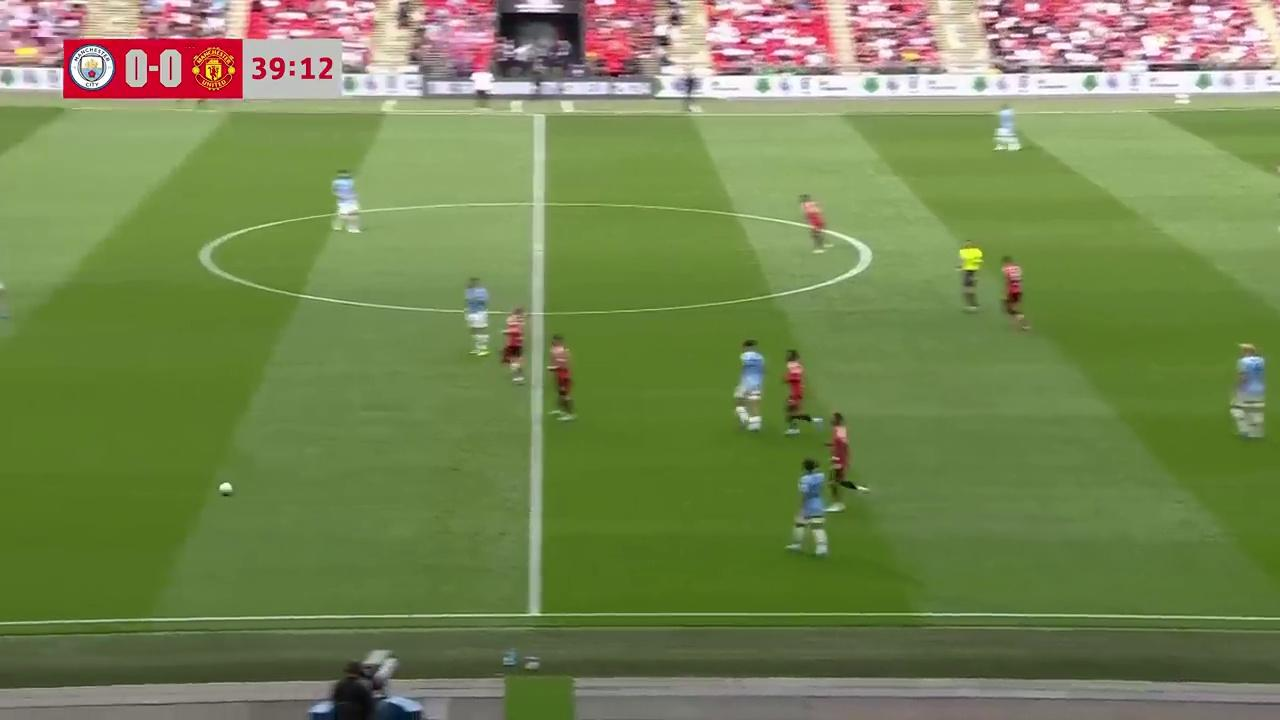ball: (216, 477, 235, 497)
player: (784, 457, 832, 557), (824, 410, 871, 508), (781, 349, 823, 436), (1229, 342, 1266, 438), (733, 339, 766, 431), (548, 334, 576, 419), (1000, 256, 1030, 331), (499, 305, 528, 382), (463, 277, 491, 355), (330, 171, 360, 233), (798, 195, 828, 252), (994, 105, 1020, 151), (0, 265, 10, 333)
referee: (956, 239, 983, 310)
